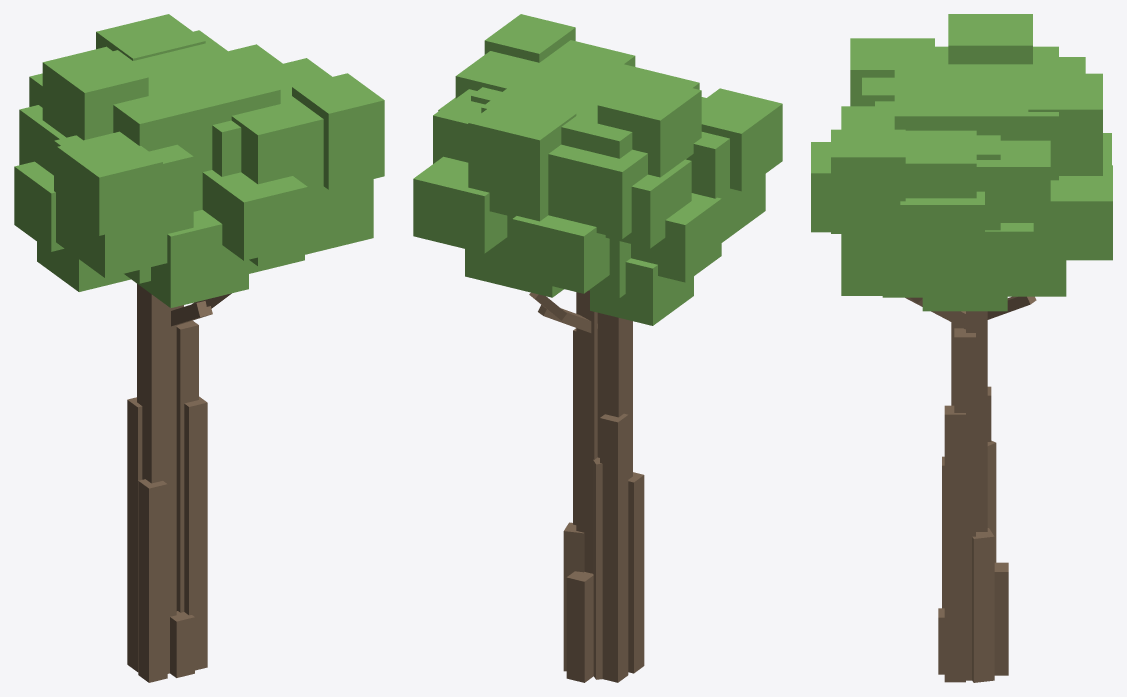
File: SM_Tree_01_B.fbx
3 views of the same model, side by side, from view 1: azimuth 30°, elevation 25°; view 2: azimuth 150°, elevation 25°; view 3: azimuth 270°, elevation 25° (orthographic). The views are drawn at different scales.
Visible parts, largest first — view 1: pCube277; view 2: pCube277; view 3: pCube277.
Boxes of the visible parts, x1,y1,x2,y2 form: pCube277: (14, 14, 384, 682); pCube277: (413, 14, 782, 682); pCube277: (811, 14, 1112, 682).
Bounding box in the file's own units: 131 × 266 × 119.
